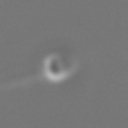normal: (1, 69, 44, 96)
